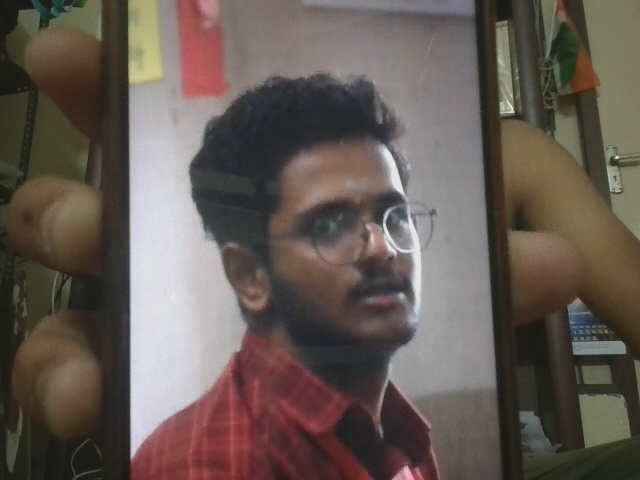fake: (260, 134, 472, 346)
